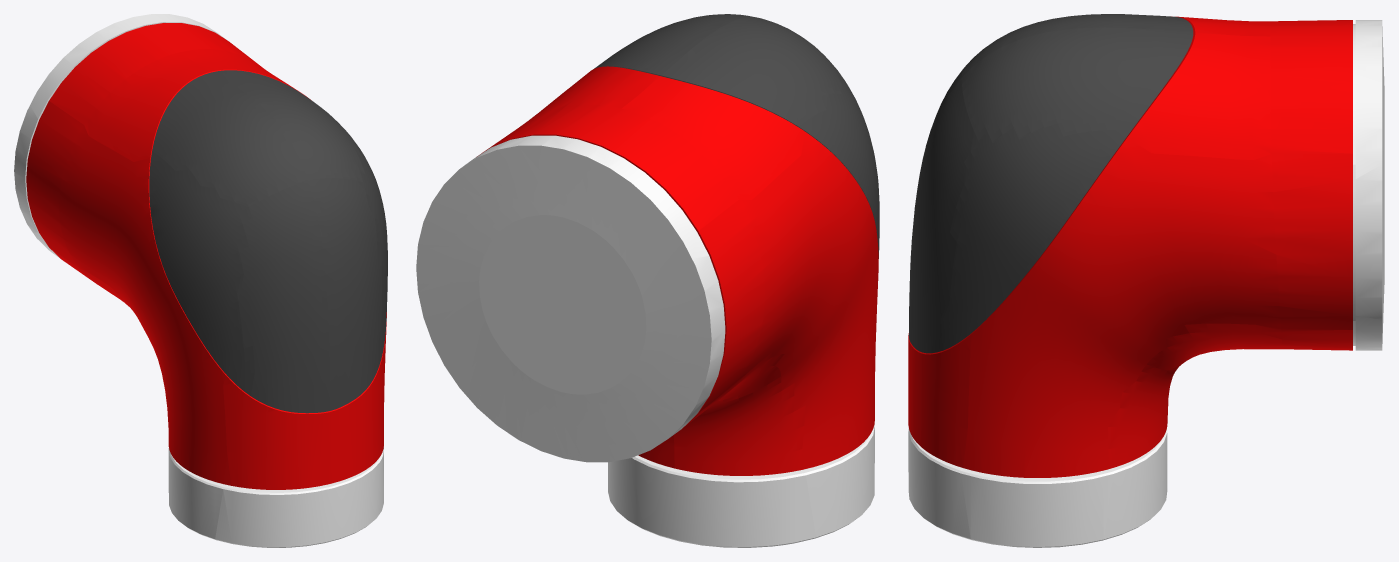
The picture shows the model from 3 angles, left to right: view 1: azimuth 30°, elevation 25°; view 2: azimuth 150°, elevation 25°; view 3: azimuth 270°, elevation 25°; orthographic projection. The views are drawn at different scales.
Visible parts, largest first — view 1: _3DGeom_24_geo_2.010, _3DGeom_23_geo_1.015, _3DGeom_22_geo_0.015; view 2: _3DGeom_22_geo_0.015, _3DGeom_23_geo_1.015, _3DGeom_24_geo_2.010; view 3: _3DGeom_23_geo_1.015, _3DGeom_24_geo_2.010, _3DGeom_22_geo_0.015.
Boxes of the visible parts, x1,y1,x2,y2 form: _3DGeom_24_geo_2.010: (149,70,387,413); _3DGeom_23_geo_1.015: (26,23,386,489); _3DGeom_22_geo_0.015: (14,14,383,547); _3DGeom_22_geo_0.015: (416,135,874,547); _3DGeom_23_geo_1.015: (477,66,878,475); _3DGeom_24_geo_2.010: (594,14,879,258); _3DGeom_23_geo_1.015: (908,16,1352,477); _3DGeom_24_geo_2.010: (908,14,1193,353); _3DGeom_22_geo_0.015: (908,20,1384,547).
Size of the model in its own units: 0.136 by 0.2115 by 0.1958.
